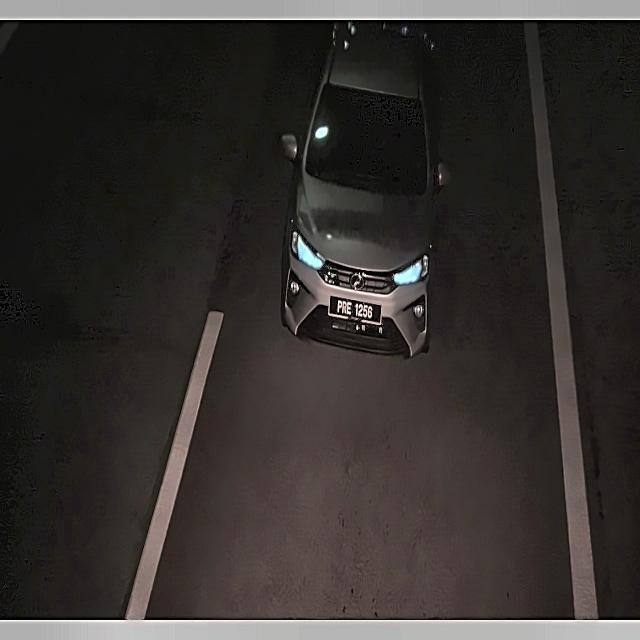car: (325, 290, 386, 331)
